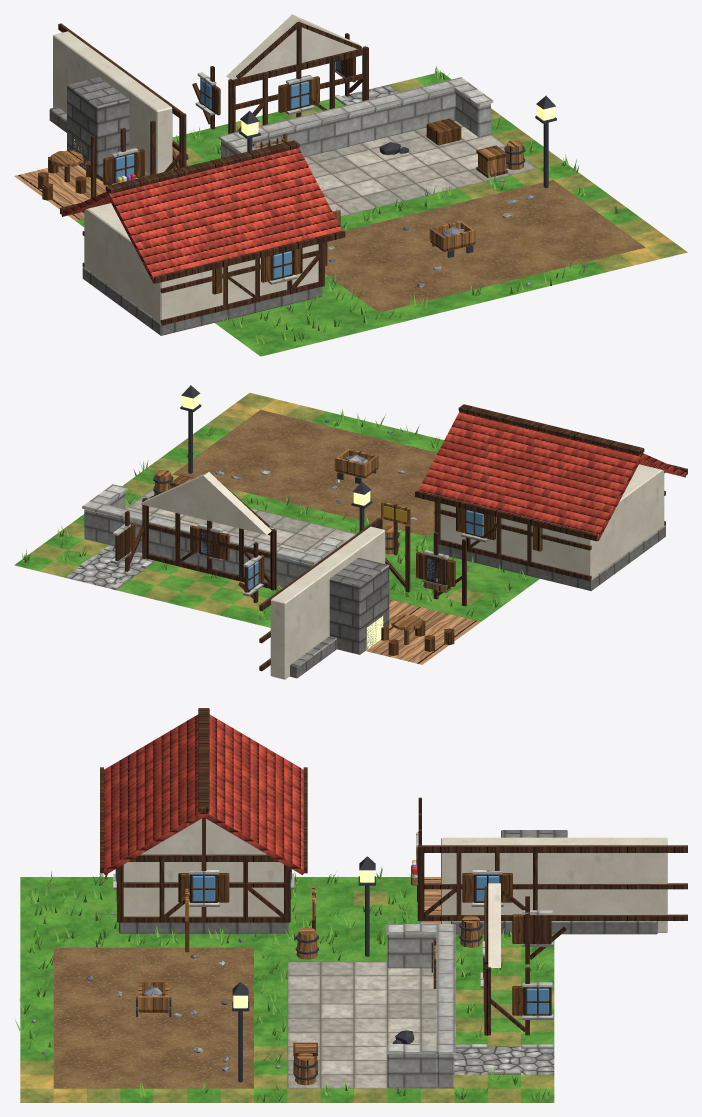
Rendered from chunk_7_6.glb.
The picture shows the model from 3 angles, top to bottom: view 1: azimuth 30°, elevation 25°; view 2: azimuth 150°, elevation 25°; view 3: azimuth 270°, elevation 25°; orthographic projection. The views are drawn at different scales.
Visible parts, largest first — view 1: chunk_7_6; view 2: chunk_7_6; view 3: chunk_7_6.
Part boxes in pixels (x1=…): chunk_7_6: x1=14, y1=14, x2=687, y2=356; chunk_7_6: x1=14, y1=385, x2=687, y2=679; chunk_7_6: x1=14, y1=708, x2=687, y2=1102.
Size of the model in its own units: 18.65 by 4.73 by 20.19.
27 materials, 18 textured.
